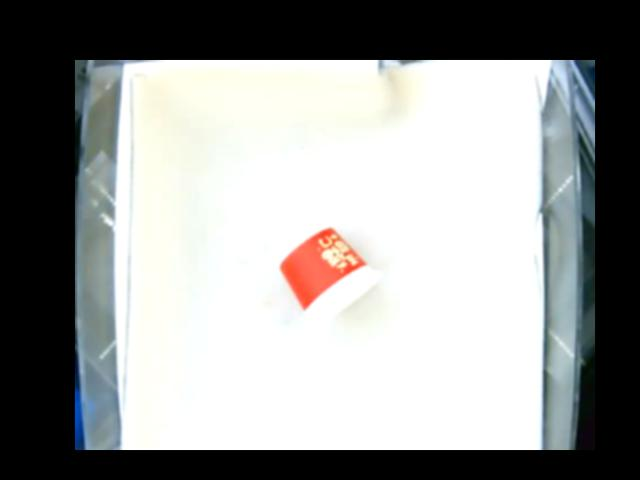Cup: (271, 221, 382, 324)
